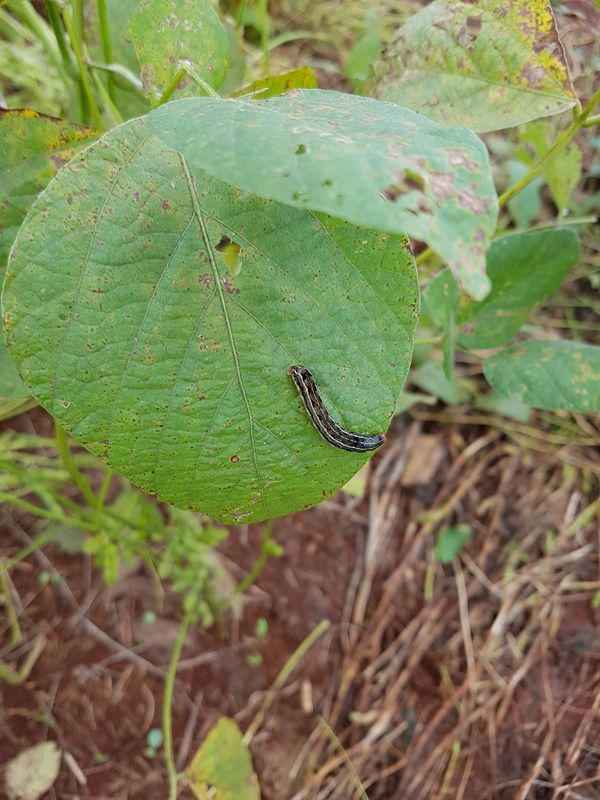Spodoptera_albula: (265, 347, 404, 475)
